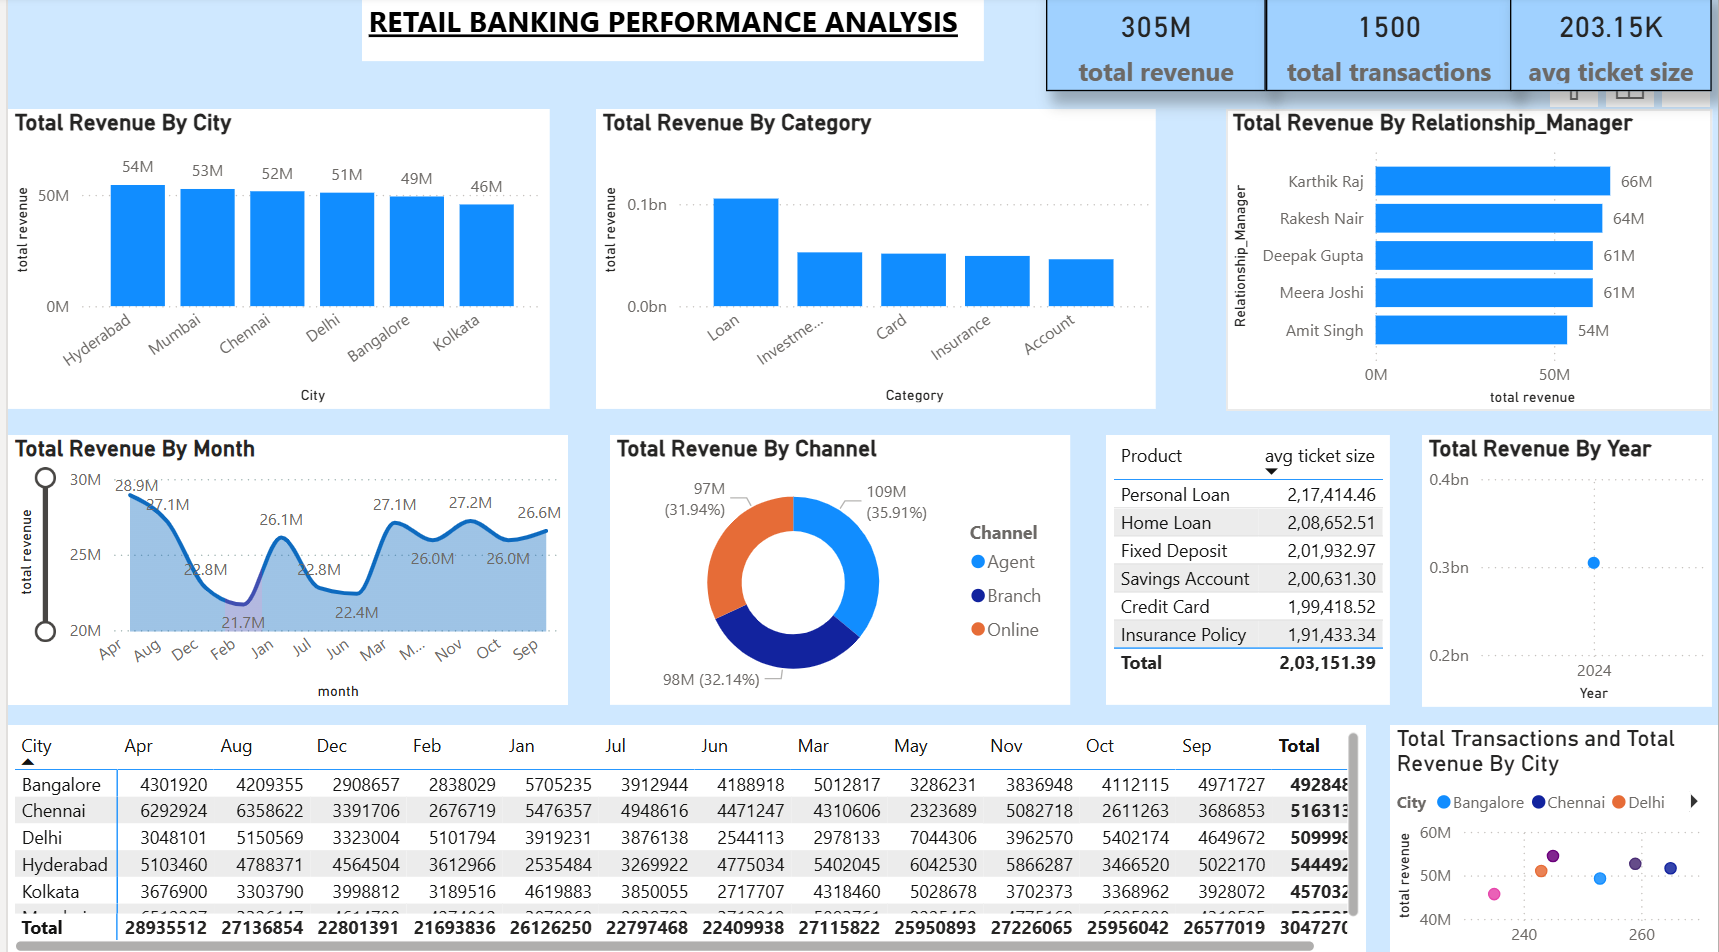

Layout of this report page (visuals, bound fields, positions):
{"tool":"powerbi","page":{"name":"dashboard","canvas":[1280,720],"ordinal":0},"visuals":[{"type":"clusteredColumnChart","title":"Total Revenue By City","fields":{"Category":["Retail_Banking_Sales (2).City"],"Y":["Retail_Banking_Sales (2).total revenue"]},"box":[0,85.3,405.7,224.6],"z":0},{"type":"columnChart","title":"Total Revenue By Category","fields":{"Category":["Retail_Banking_Sales (2).Category"],"Y":["Retail_Banking_Sales (2).total revenue"]},"box":[440.1,85.3,419.2,224.6],"z":1000},{"type":"barChart","title":"Total Revenue By Relationship_Manager","fields":{"Category":["Retail_Banking_Sales (2).Relationship_Manager"],"Y":["Retail_Banking_Sales (2).total revenue"]},"box":[911.7,85.3,363.8,226.1],"z":2000},{"type":"lineChart","title":"Total Revenue By Month","fields":{"Category":["Retail_Banking_Sales (2).month"],"Y":["Retail_Banking_Sales (2).total revenue"]},"box":[0,329.4,419.2,202.1],"z":3000},{"type":"donutChart","title":"Total Revenue By Channel","fields":{"Category":["Retail_Banking_Sales (2).Channel"],"Y":["Retail_Banking_Sales (2).total revenue"]},"box":[450.6,329.4,344.3,202.1],"z":4000},{"type":"textbox","box":[265,0,465.6,49.4],"z":5000},{"type":"tableEx","fields":{"Values":["Retail_Banking_Sales (2).Product","Retail_Banking_Sales (2).avg ticket size"]},"box":[821.9,329.4,212.6,202.1],"z":6000},{"type":"pivotTable","fields":{"Columns":["Retail_Banking_Sales (2).month"],"Rows":["Retail_Banking_Sales (2).City"],"Values":["Retail_Banking_Sales (2).total revenue"]},"box":[0,546.4,1016.5,175.2],"z":7000},{"type":"lineChart","title":"Total Revenue By Year","fields":{"Category":["Retail_Banking_Sales (2).Date.Variation.Date Hierarchy.Year","Retail_Banking_Sales (2).Date.Variation.Date Hierarchy.Quarter","Retail_Banking_Sales (2).Date.Variation.Date Hierarchy.Month","Retail_Banking_Sales (2).Date.Variation.Date Hierarchy.Day"],"Y":["Retail_Banking_Sales (2).total revenue"]},"box":[1058.4,329.4,217.1,203.6],"z":8000},{"type":"scatterChart","title":"Total Transactions and Total Revenue By City","fields":{"X":["Retail_Banking_Sales (2).total transactions"],"Y":["Retail_Banking_Sales (2).total revenue"],"Series":["Retail_Banking_Sales (2).City"]},"box":[1034.5,546.4,247,175.2],"z":9000},{"type":"card","fields":{"Values":["Retail_Banking_Sales (2).total revenue"]},"box":[777,0,164.7,71.9],"z":10000},{"type":"card","fields":{"Values":["Retail_Banking_Sales (2).total transactions"]},"box":[941.7,0,184.1,71.9],"z":11000},{"type":"card","fields":{"Values":["Retail_Banking_Sales (2).avg ticket size"]},"box":[1124.3,0,151.2,71.9],"z":12000}]}

Visuals, with their boxes in screenshot pixels (x1, y1, x2, y2), scaled from the page's 1280x720 canvas onto the 1719x952 screenshot:
"Total Revenue By City" clusteredColumnChart: rect(0, 113, 545, 410)
"Total Revenue By Category" columnChart: rect(591, 113, 1154, 410)
"Total Revenue By Relationship_Manager" barChart: rect(1224, 113, 1713, 412)
"Total Revenue By Month" lineChart: rect(0, 436, 563, 703)
"Total Revenue By Channel" donutChart: rect(605, 436, 1068, 703)
textbox: rect(356, 0, 981, 65)
tableEx - Retail_Banking_Sales (2).Product x Retail_Banking_Sales (2).avg ticket size: rect(1104, 436, 1389, 703)
pivotTable - Retail_Banking_Sales (2).month x Retail_Banking_Sales (2).City: rect(0, 722, 1365, 951)
"Total Revenue By Year" lineChart: rect(1421, 436, 1713, 705)
"Total Transactions and Total Revenue By City" scatterChart: rect(1389, 722, 1718, 951)
card - Retail_Banking_Sales (2).total revenue: rect(1043, 0, 1265, 95)
card - Retail_Banking_Sales (2).total transactions: rect(1265, 0, 1512, 95)
card - Retail_Banking_Sales (2).avg ticket size: rect(1510, 0, 1713, 95)
